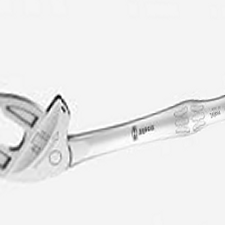wrench: (1, 81, 225, 180)
